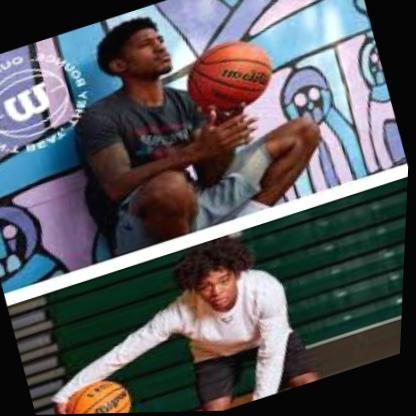basketball: (179, 33, 281, 122), (63, 373, 144, 415)
